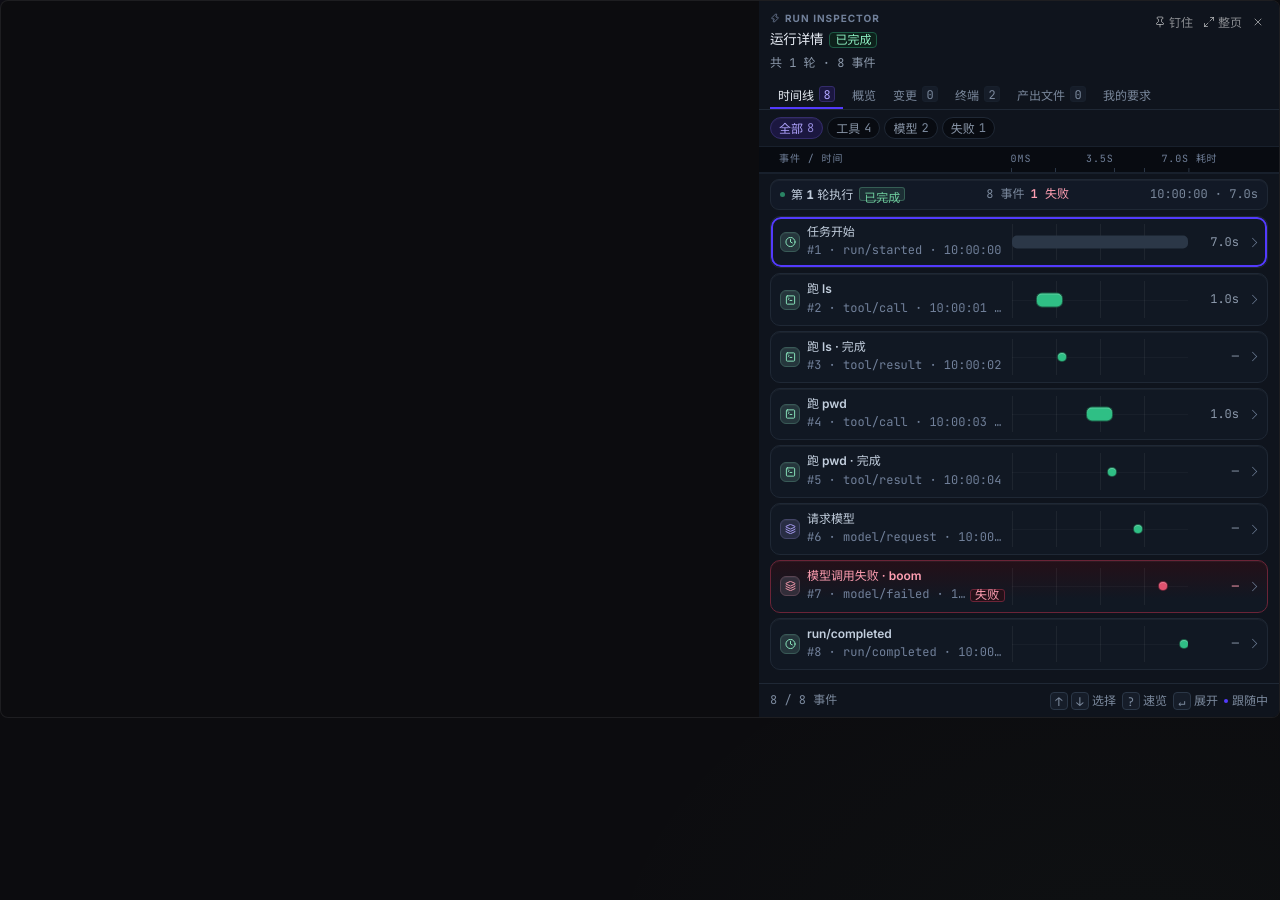
Test: #1523 AC1 — tooltip 键盘可达且与指针同一份派生 › 键盘 tooltip 与指针 tooltip 同一行同内容（不为同一内容造第二份数据真相）
Press ? in the button with class "timeline-row" that starts with "任务开始", box top-left (771, 217), bottom-right (1267, 267)
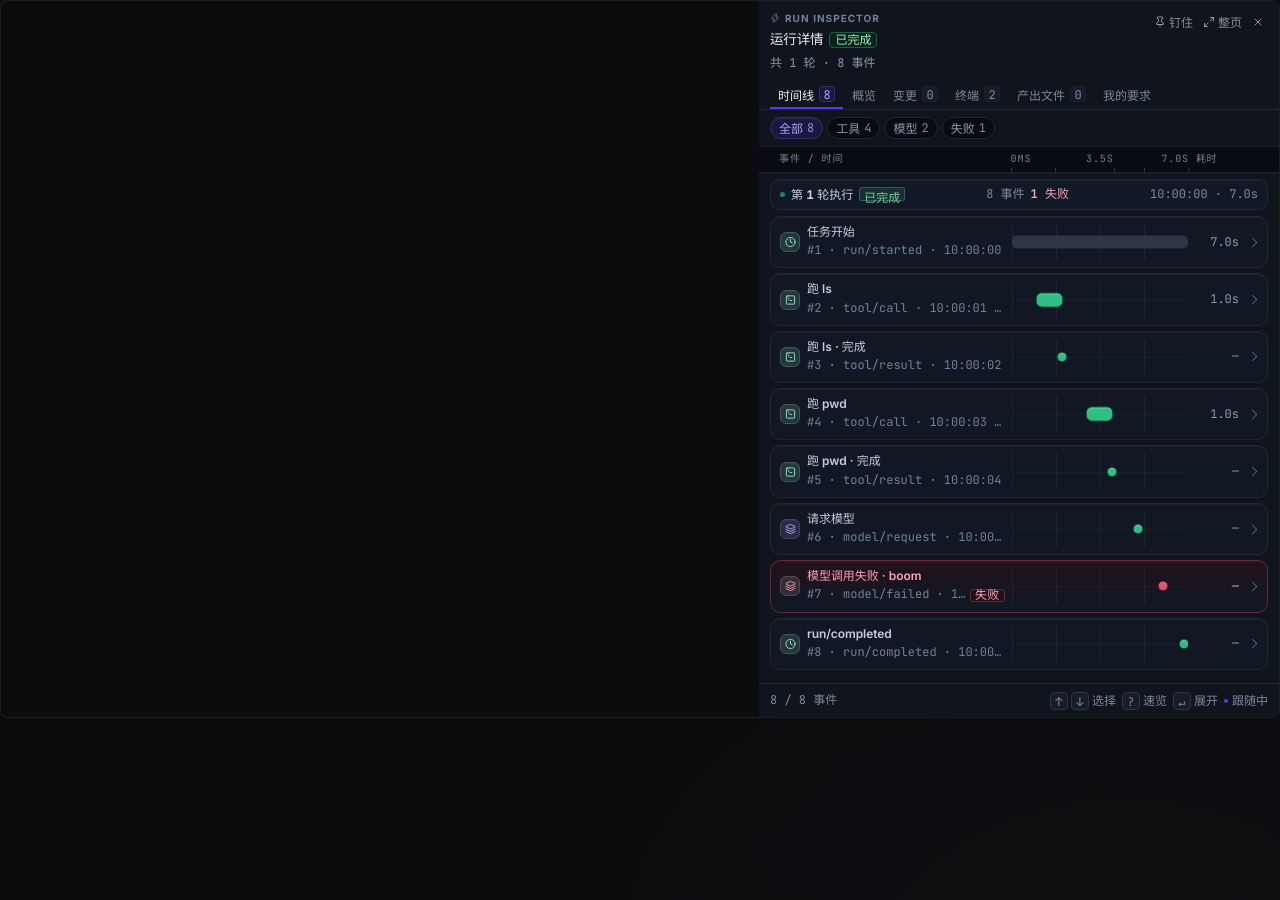
Hover over the button with class "timeline-row" that starts with "任务开始" at (1019, 242), box top-left (771, 217), bottom-right (1267, 267)
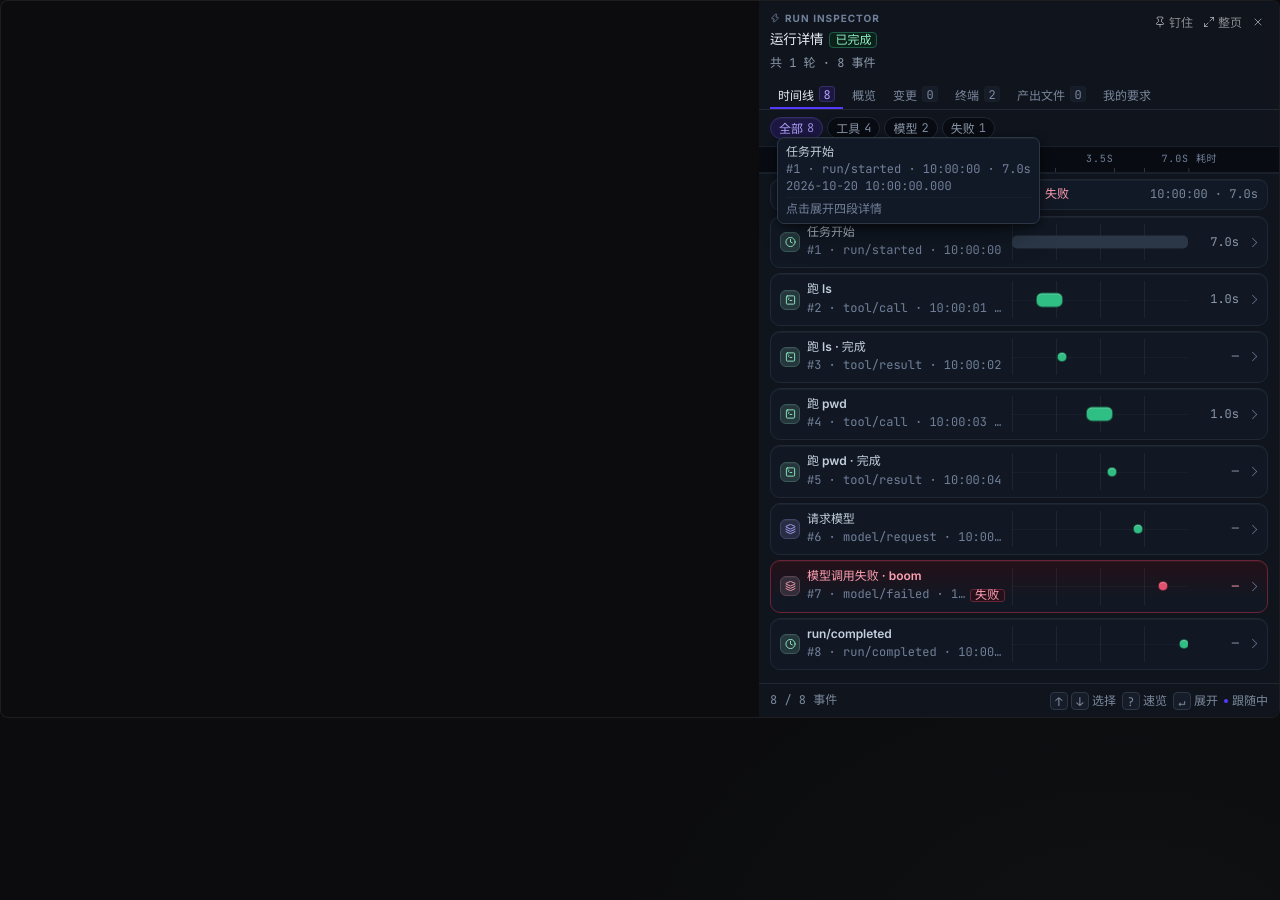
Check: the tooltip with class "tl-tooltip" is shown, box top-left (777, 137), bottom-right (1040, 224)
Check: the text with class "tl-tooltip-title" reads "任务开始", box top-left (786, 144), bottom-right (834, 159)
